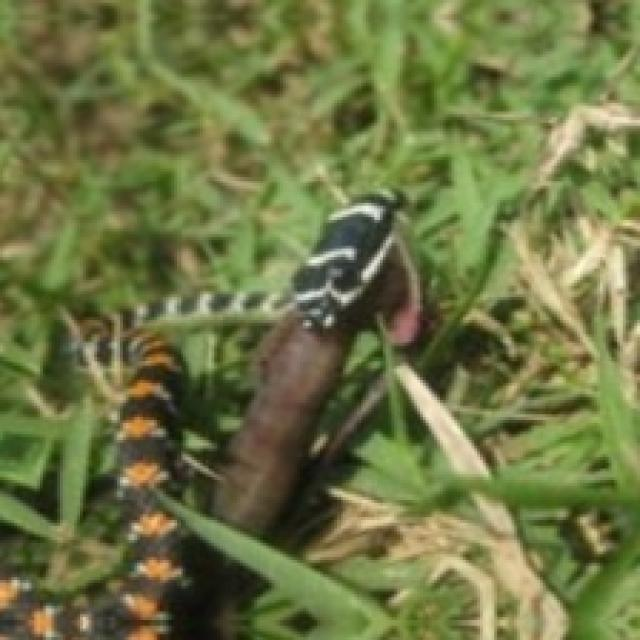paradise tree snake: (211, 194, 420, 531), (117, 334, 180, 583)
